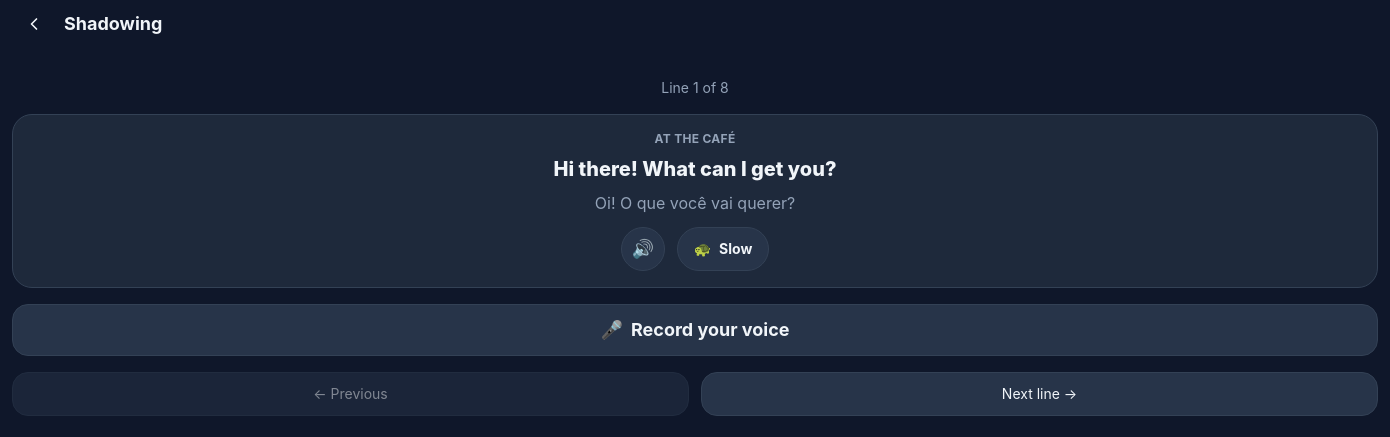
Test case: Shadowing › moves to the next line
What coordinates should you click on to do the following:
click the button "Next line →"
I would click on:
 (1040, 394)
Its box is [701,372,1378,416].
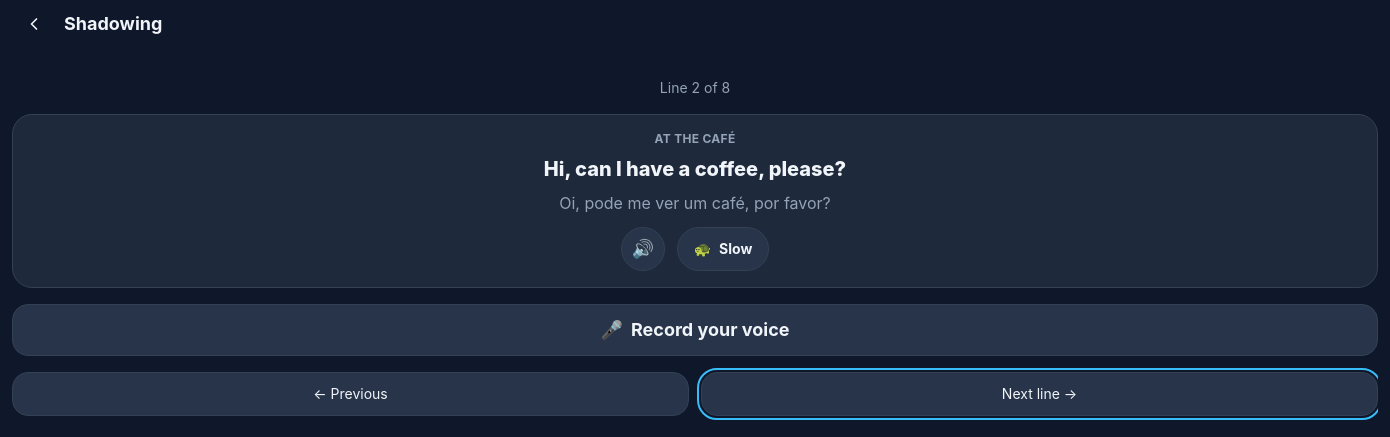
Now the text "Line 2 of 8" is shown, box [660,79,730,96]
